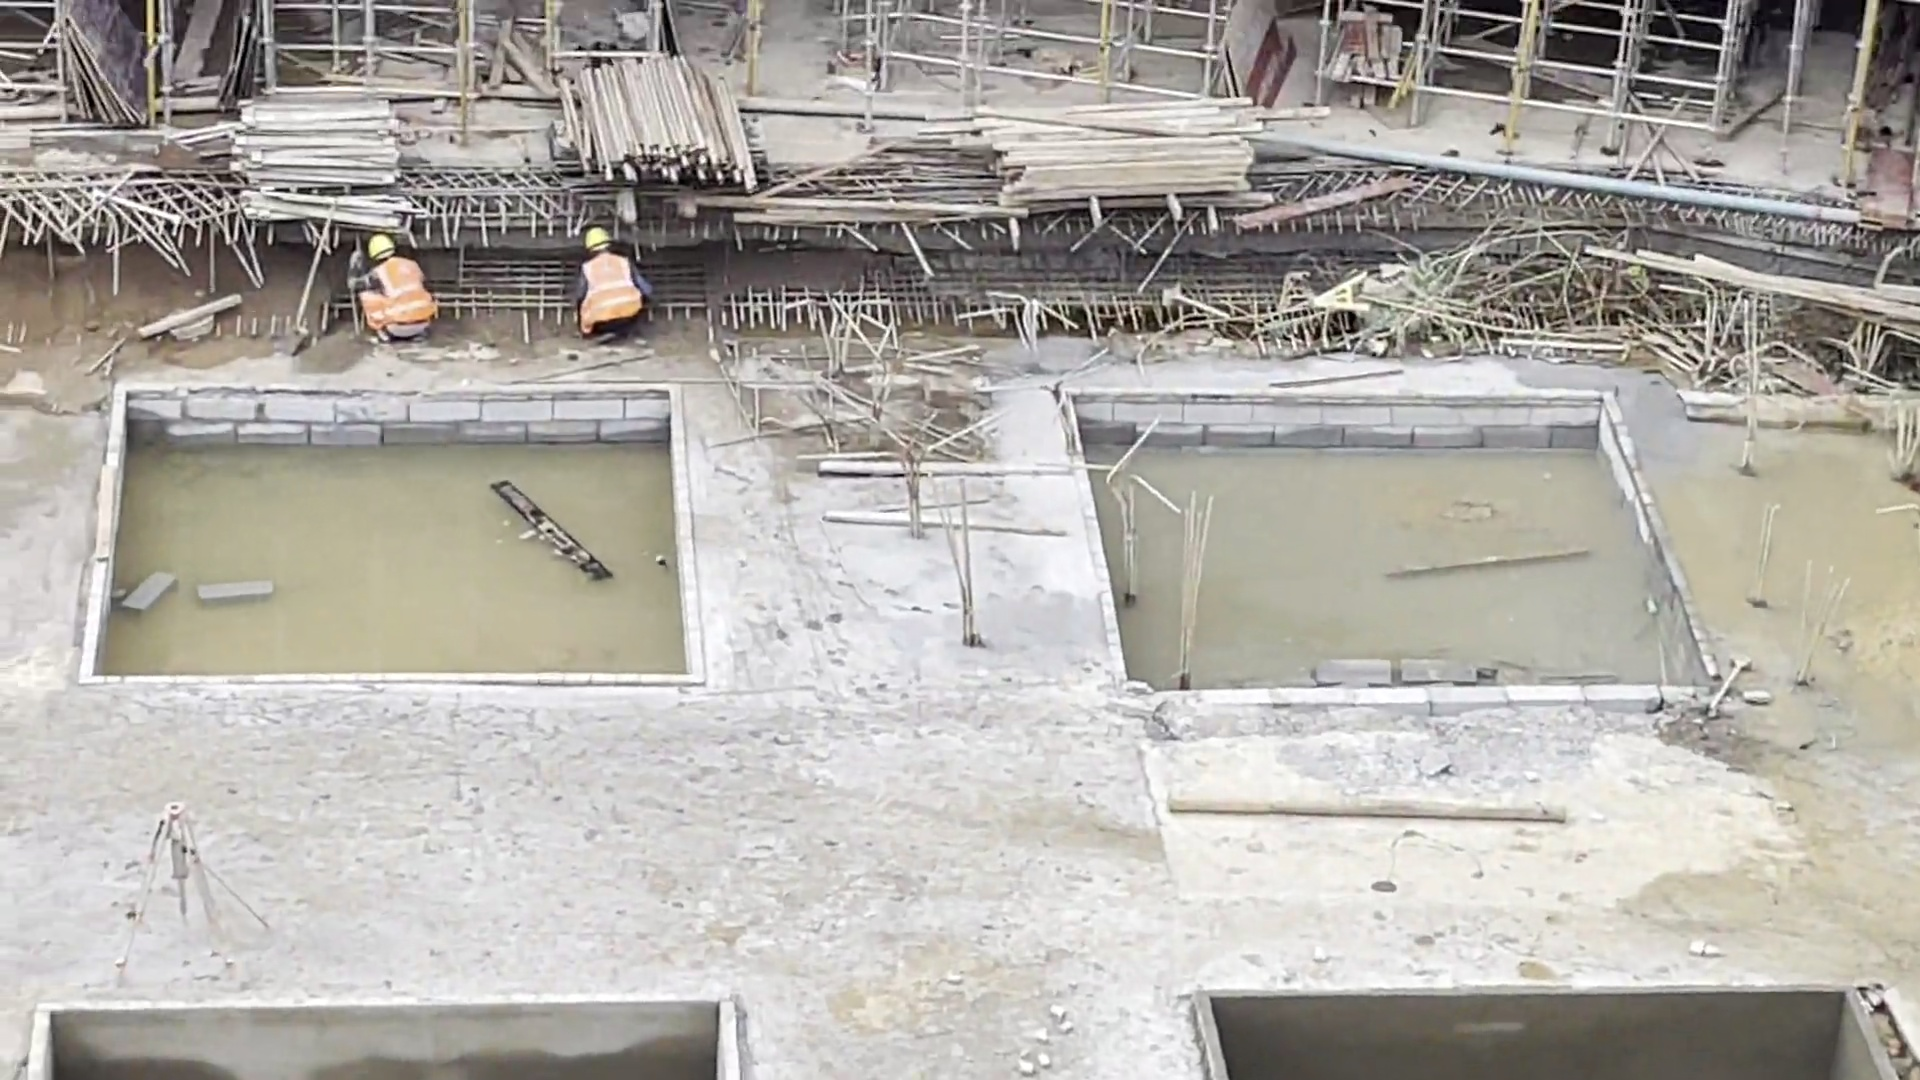helmet: (583, 224, 613, 254), (365, 234, 397, 262)
person: (355, 232, 438, 348), (571, 223, 648, 341)
vest: (359, 257, 434, 330), (576, 254, 642, 335)
